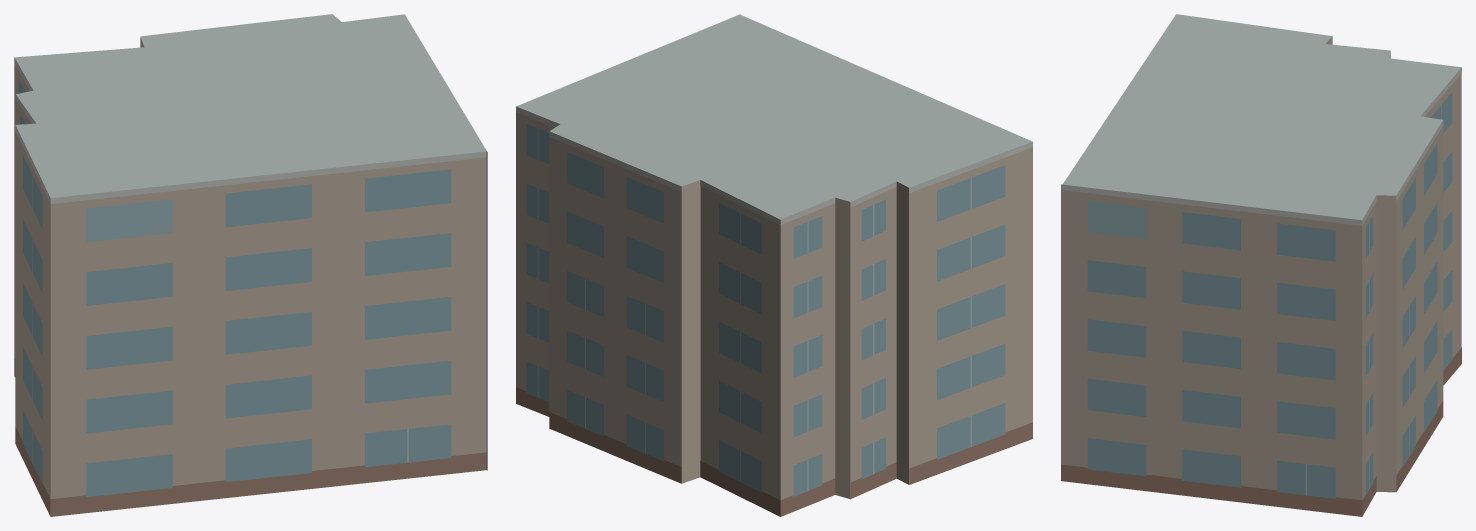
File: survey-upis-32480242.glb
The picture shows the model from 3 angles, left to right: view 1: azimuth 30°, elevation 25°; view 2: azimuth 150°, elevation 25°; view 3: azimuth 270°, elevation 25°; orthographic projection. The views are drawn at different scales.
Parts seen in each view (by area): view 1: survey-upis-32480242.tmp; view 2: survey-upis-32480242.tmp; view 3: survey-upis-32480242.tmp.
Part boxes in pixels (left/top/right/bottom): survey-upis-32480242.tmp: left=14, top=14, right=487, bottom=516; survey-upis-32480242.tmp: left=516, top=14, right=1032, bottom=516; survey-upis-32480242.tmp: left=1061, top=14, right=1461, bottom=516.
Size of the model in its own units: 19.54 by 13.1 by 16.04.
